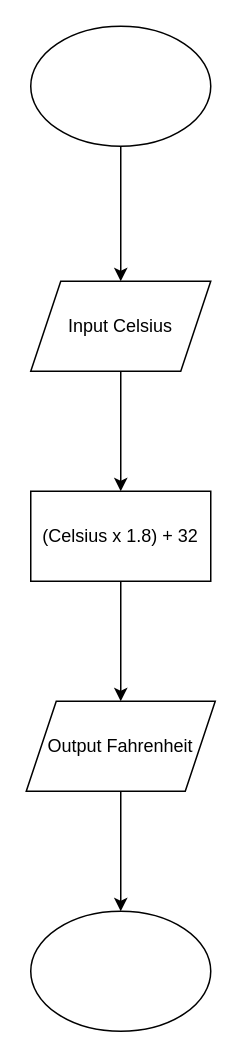
Some shapes in this 242 by 1058 pixel diagram are drawn without their labels. The centre of each missing label's shape, as x and y in pixels:
End: the point at 120,970
Start: the point at 120,85
